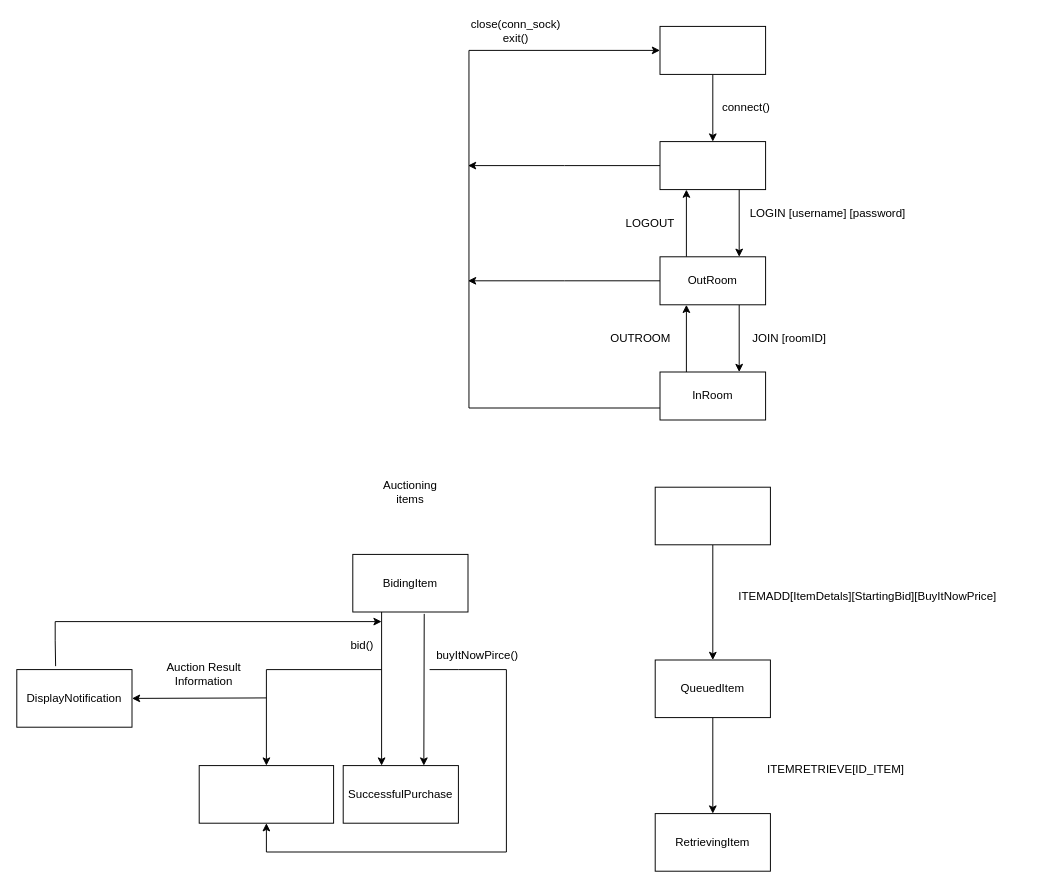
Some shapes in this 1042 by 888 pixel diagram are drawn without their labels. The shapes that lost their labels are listed below. From the top down, each one's box as (x1, y1, x2, y2) in pixels, then its label:
(659, 25, 766, 74): NotConnected
(659, 141, 766, 190): Authorrization
(654, 486, 770, 545): AddingItem
(198, 765, 334, 823): UnsuccessfulPurchase
